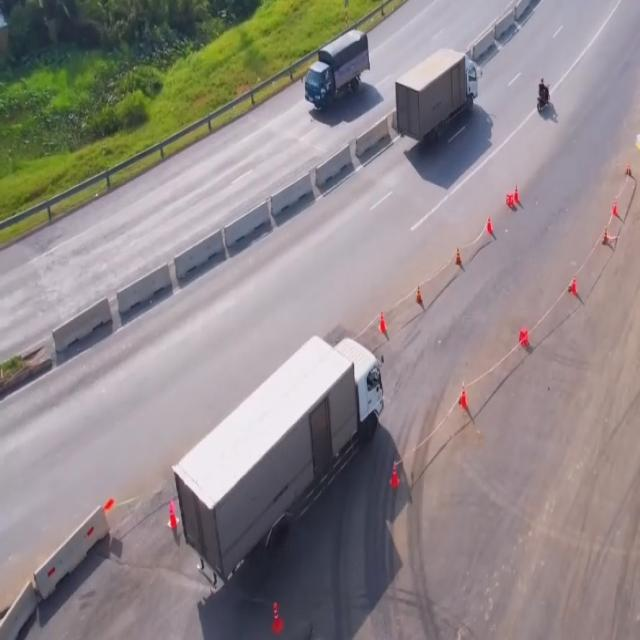motorbike: (534, 75, 552, 115)
truck: (172, 333, 387, 570), (395, 49, 479, 148), (305, 28, 371, 114)
